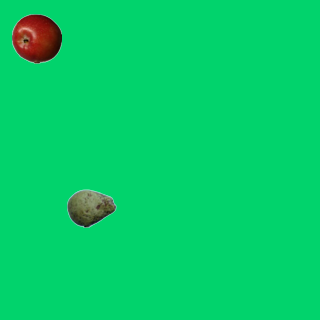Apple Braeburn: (11, 13, 61, 63)
Pear Stone: (66, 183, 116, 233)
